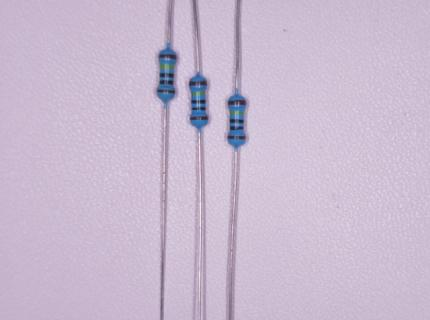Black band: (160, 73, 174, 78), (230, 125, 244, 130), (191, 99, 206, 103), (230, 119, 244, 123), (160, 80, 173, 84), (192, 107, 206, 110)
Brown band: (189, 80, 206, 86), (158, 55, 176, 59), (228, 101, 246, 105), (190, 116, 208, 120), (228, 135, 246, 139), (158, 89, 175, 93)
Yellow band: (230, 110, 244, 115), (159, 65, 173, 69), (192, 92, 205, 95)
